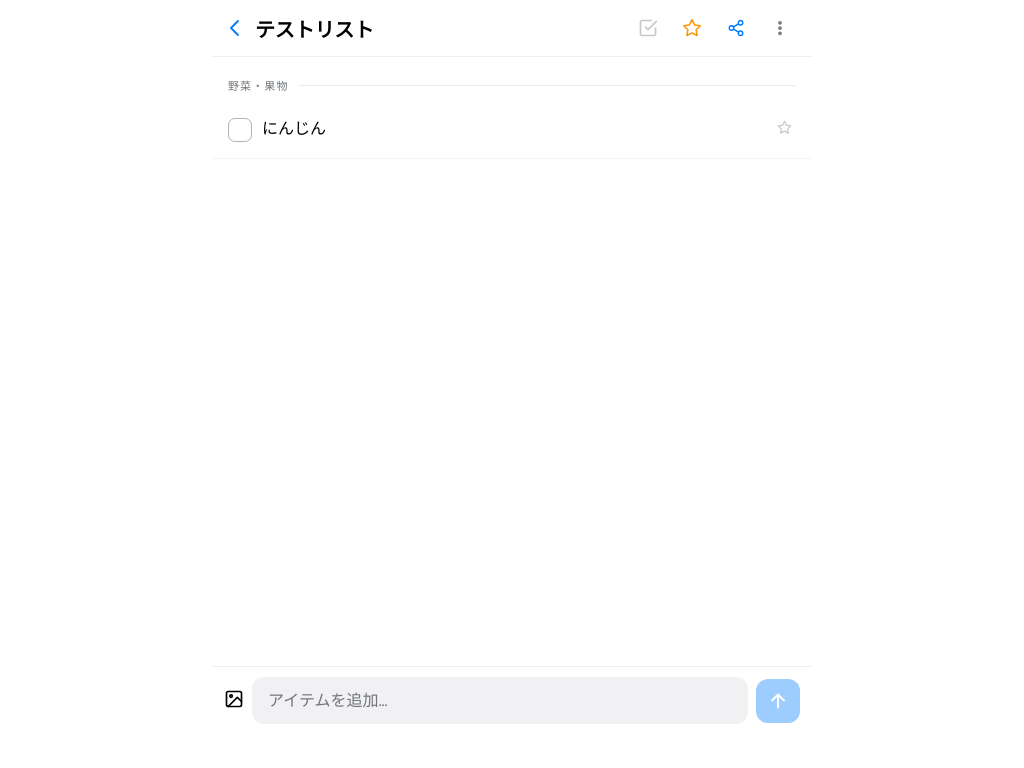
Test: ListView.vue - Item row tap › opens the edit sheet when tapping outside the checkbox
Click the element with class "item-body" at [294, 129], box [262,118,326,139]
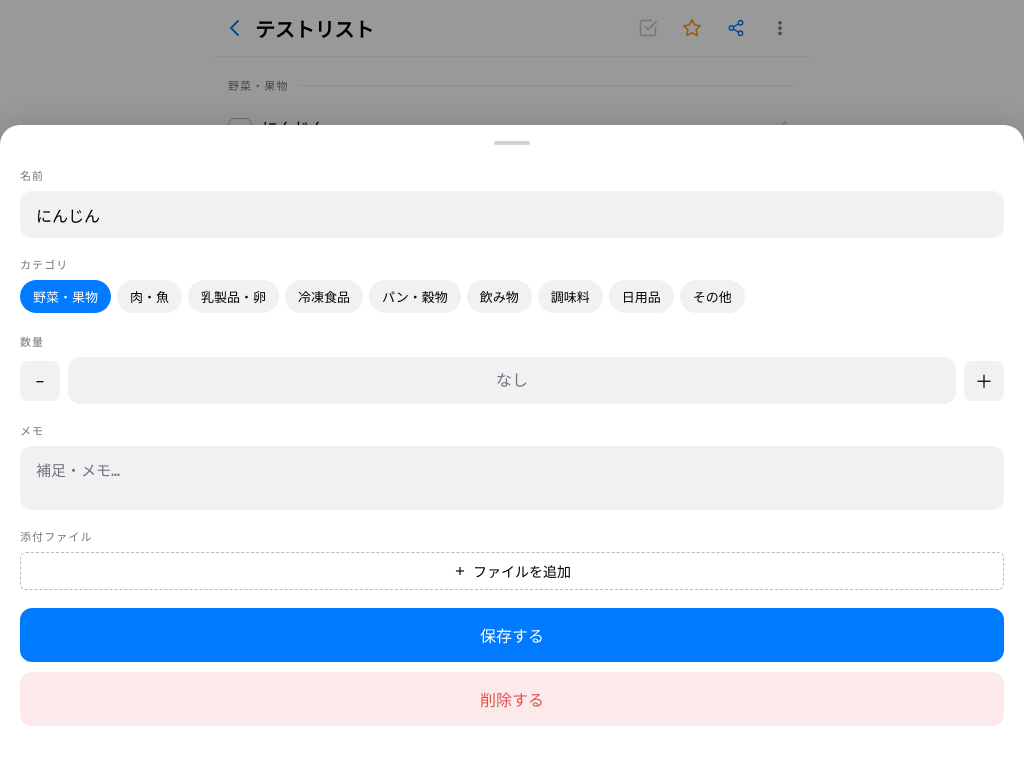
Now the element with class "sheet" is shown
